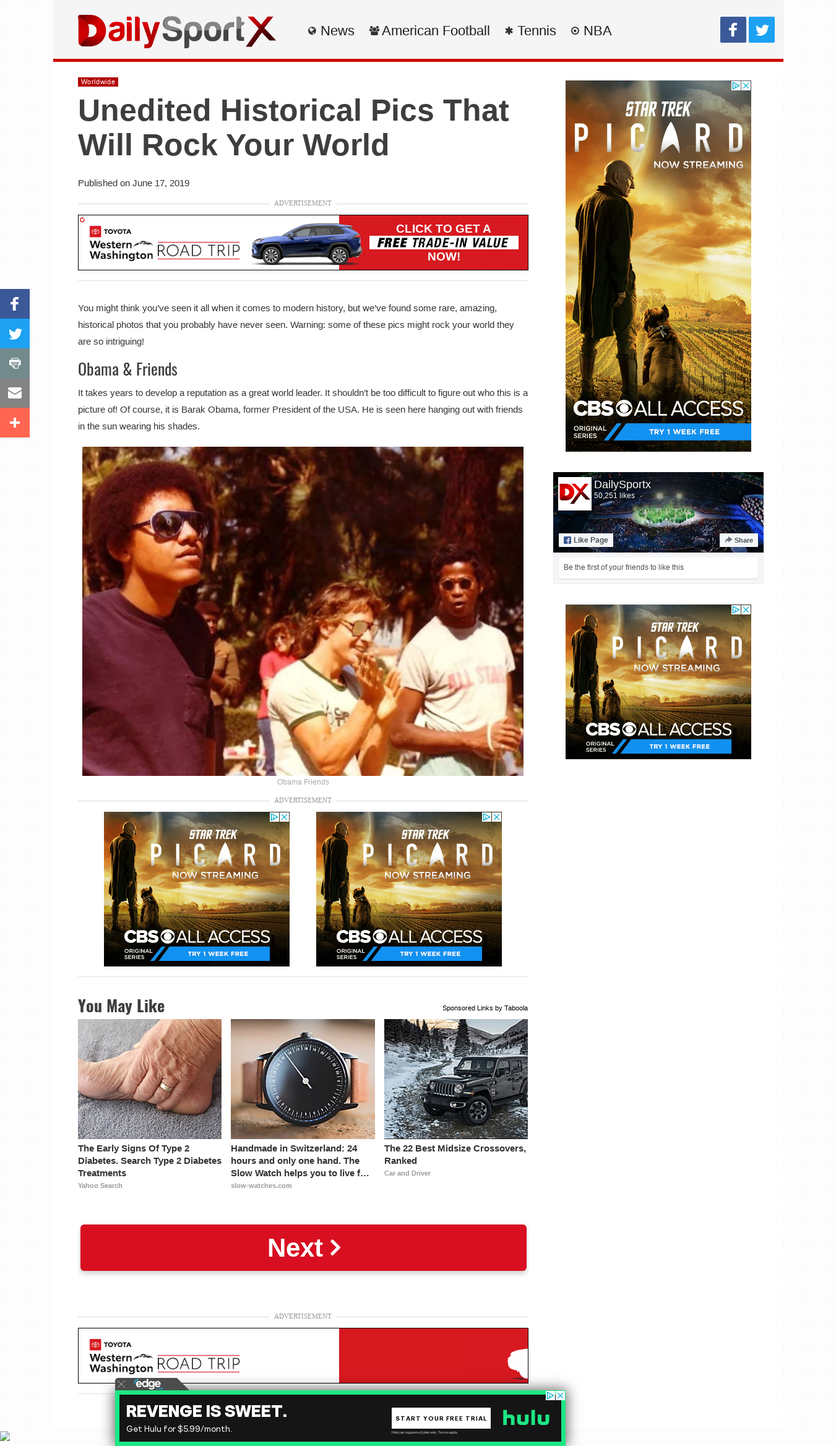fake_button: (74, 1210, 544, 1296)
